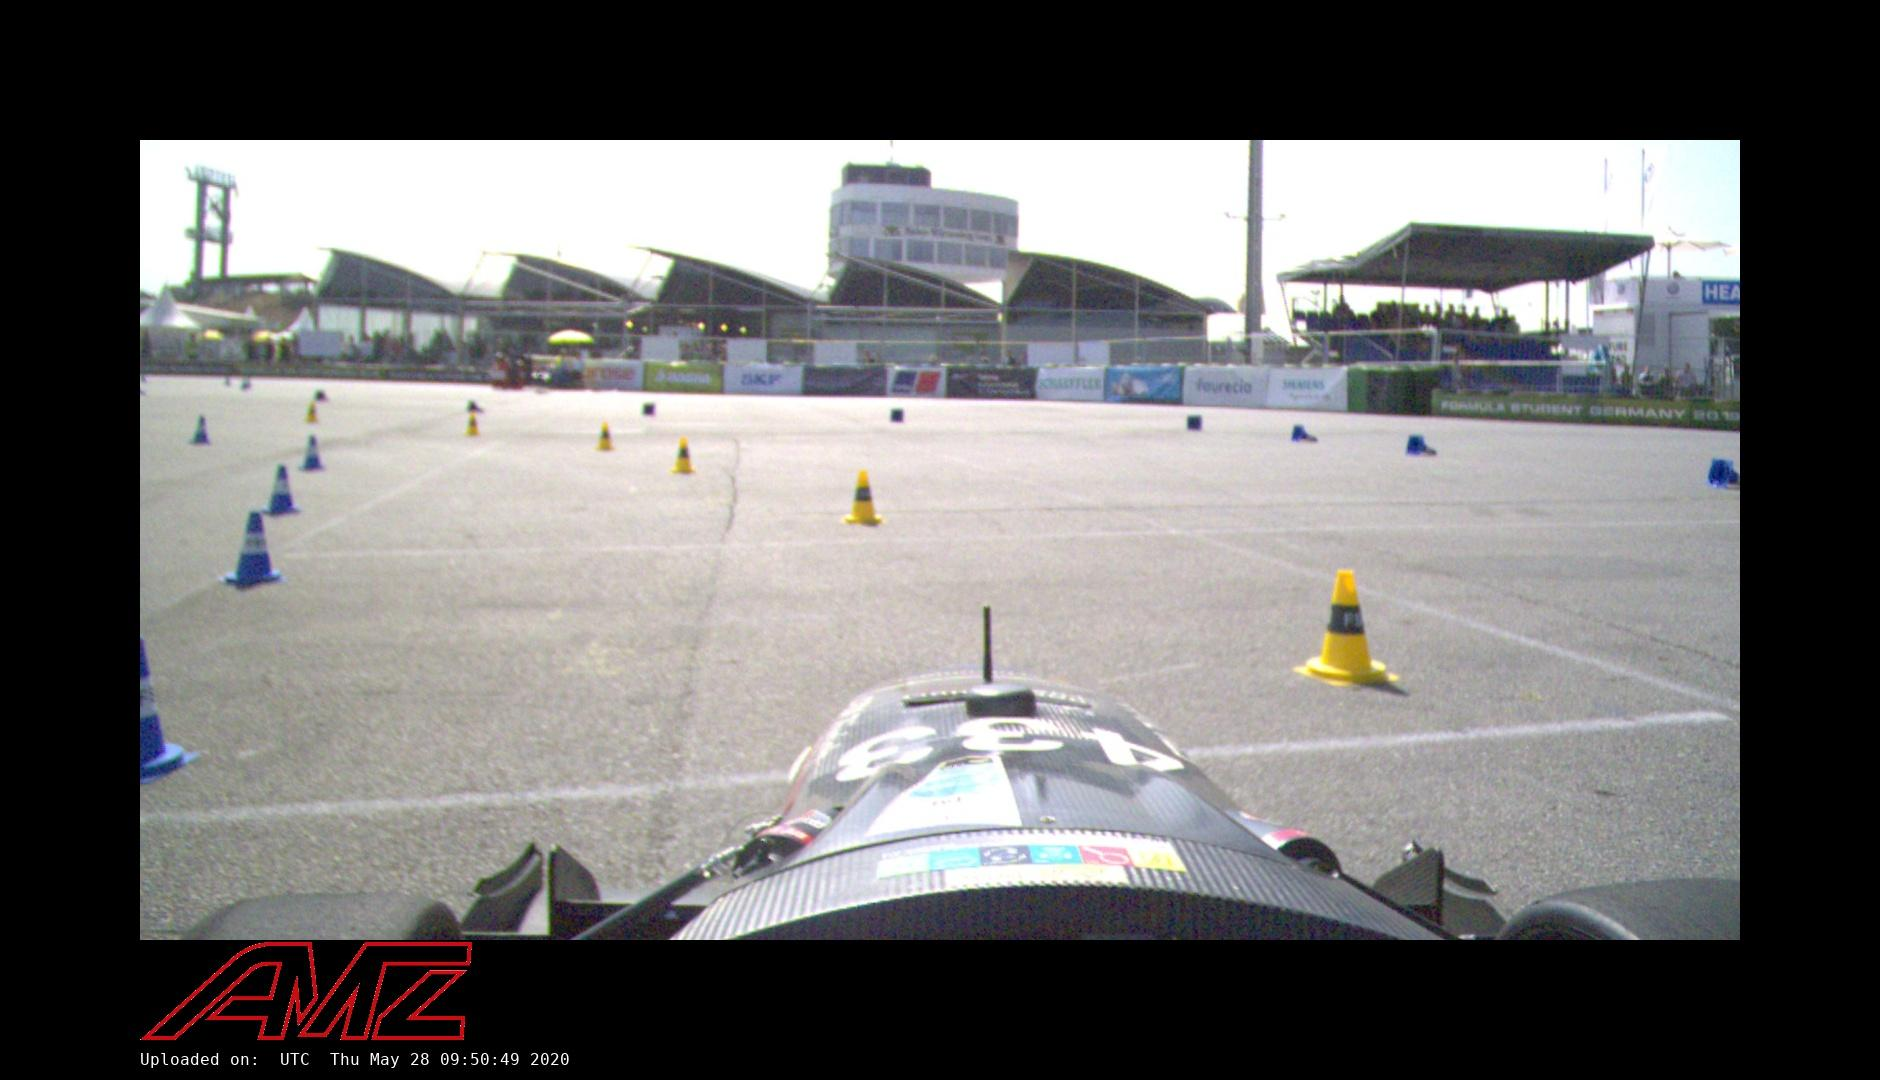blue_cone: (140, 633, 189, 781), (219, 510, 285, 591), (260, 463, 302, 516), (1701, 457, 1739, 490), (297, 434, 325, 473), (1402, 434, 1440, 457), (189, 415, 212, 446), (1290, 423, 1321, 444), (465, 399, 486, 413)
yellow_cone: (1302, 567, 1394, 689), (843, 470, 885, 526), (668, 435, 696, 474), (592, 420, 615, 451), (462, 413, 481, 438), (302, 400, 320, 424)
